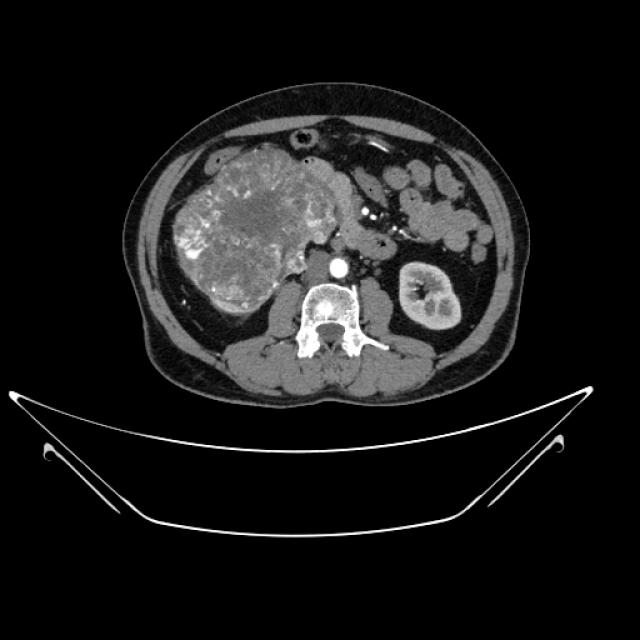Tumor: (151, 150, 325, 307)
